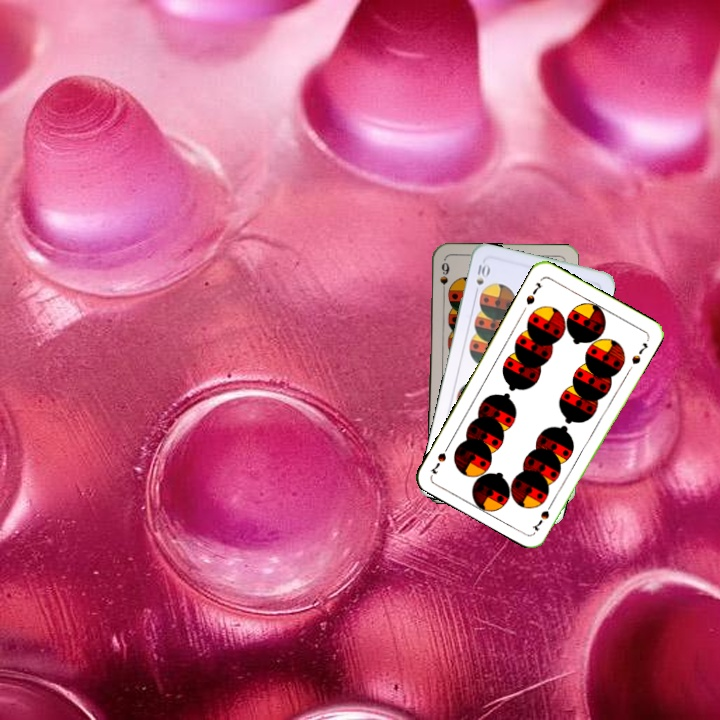S10: (471, 260, 492, 298)
S7: (529, 497, 556, 533), (522, 278, 546, 308)
S9: (436, 258, 451, 298)
